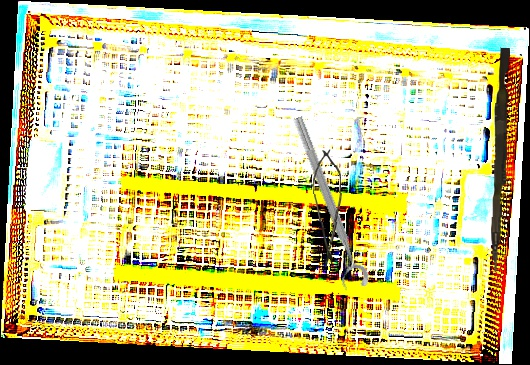Fixation Ring: (279, 114, 372, 294)
Micro Scissor: (311, 148, 345, 268)
Pusher: (490, 47, 511, 273)
